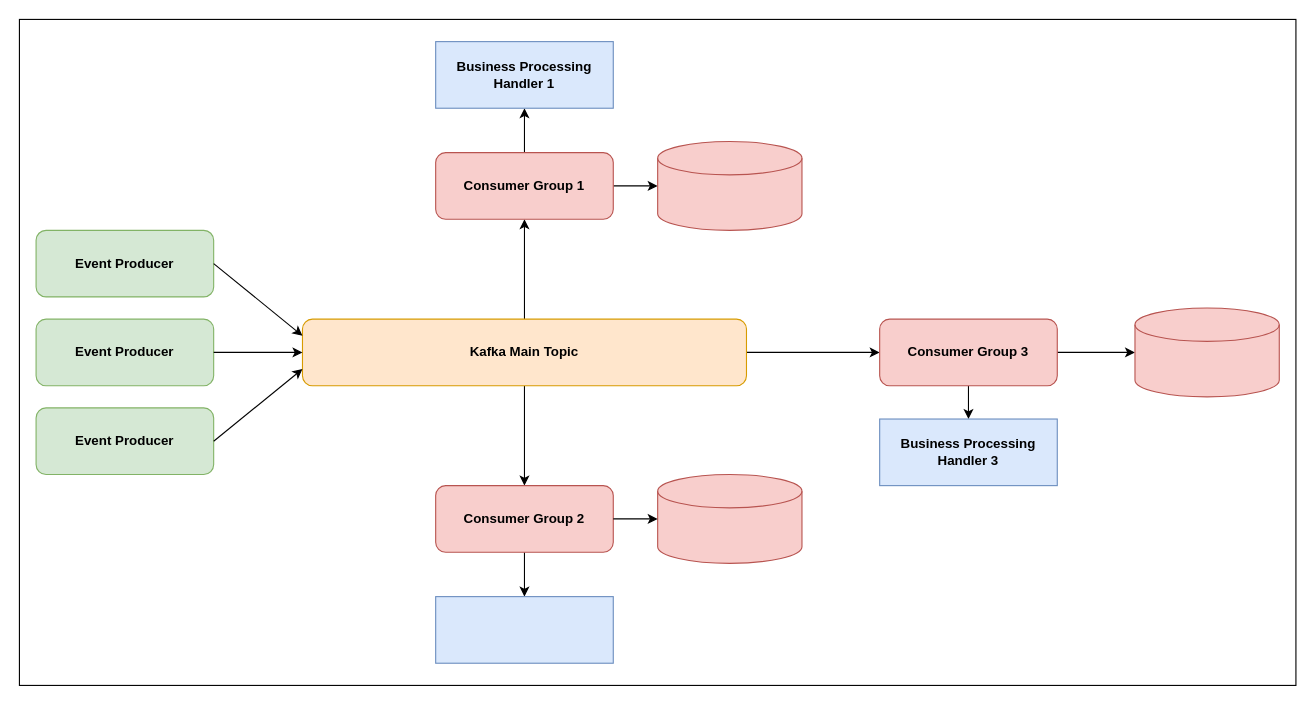
Image size: 1315x705. Some labels were removed from this diagram. Here are the shapes that lost their labels. From the top down, the box of each, then its label:
(657, 140, 802, 230): Spring Batch DB 1
(1134, 307, 1279, 397): Spring Batch DB 3
(657, 473, 802, 563): Spring Batch DB 2
(435, 596, 613, 663): Business Processing Handler 2
